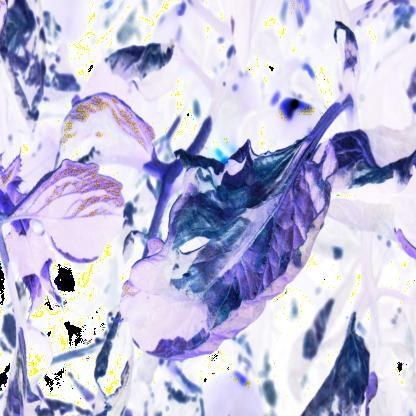Tomato leaf mosaic virus: (125, 134, 326, 379)
